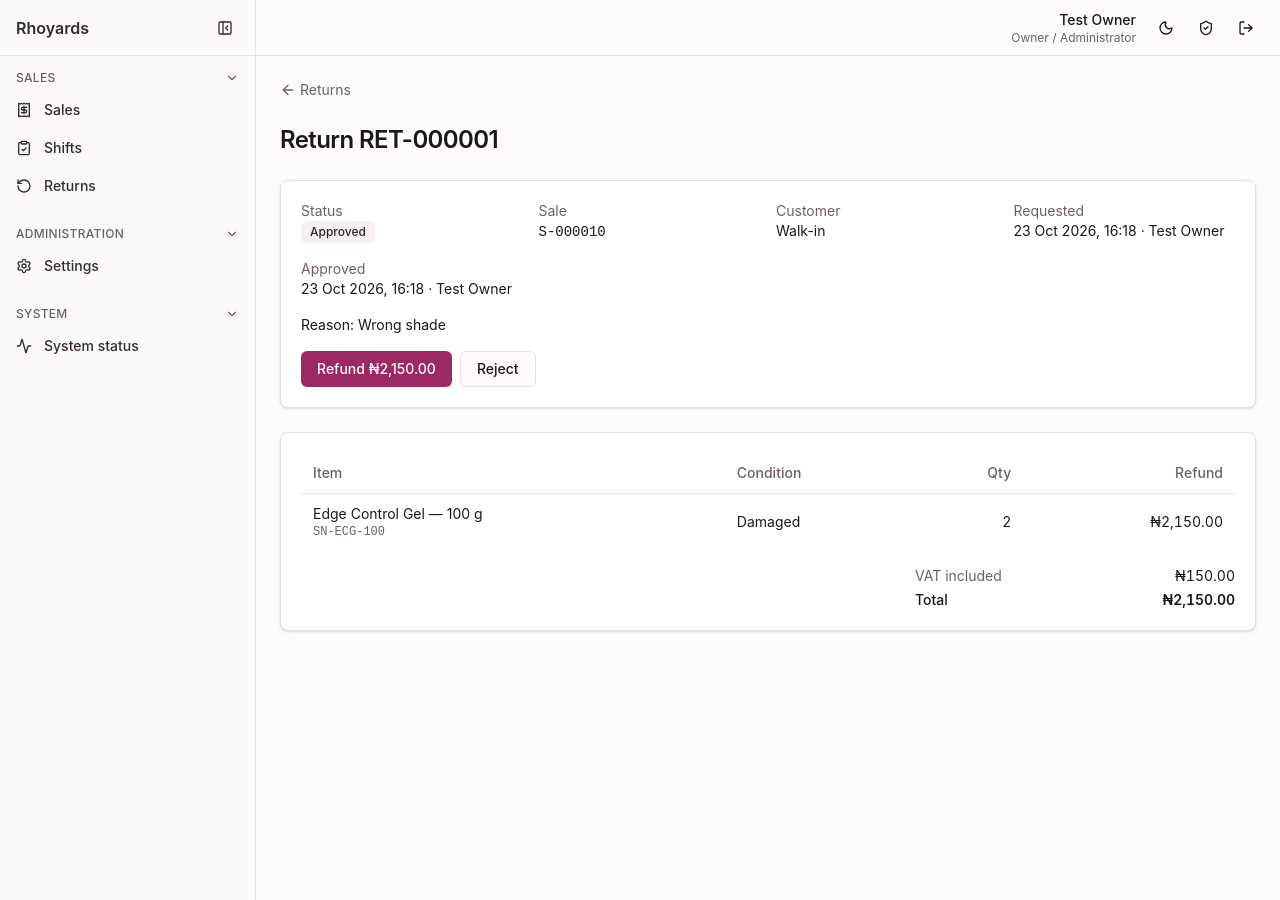
Scenario: returns › refunds an approved return once, with an idempotency key
The width and height of the screenshot is (1280, 900).
Step 1. Click the button "Refund ₦2,150.00" → {"x": 376, "y": 369}, box [301,351,452,387]
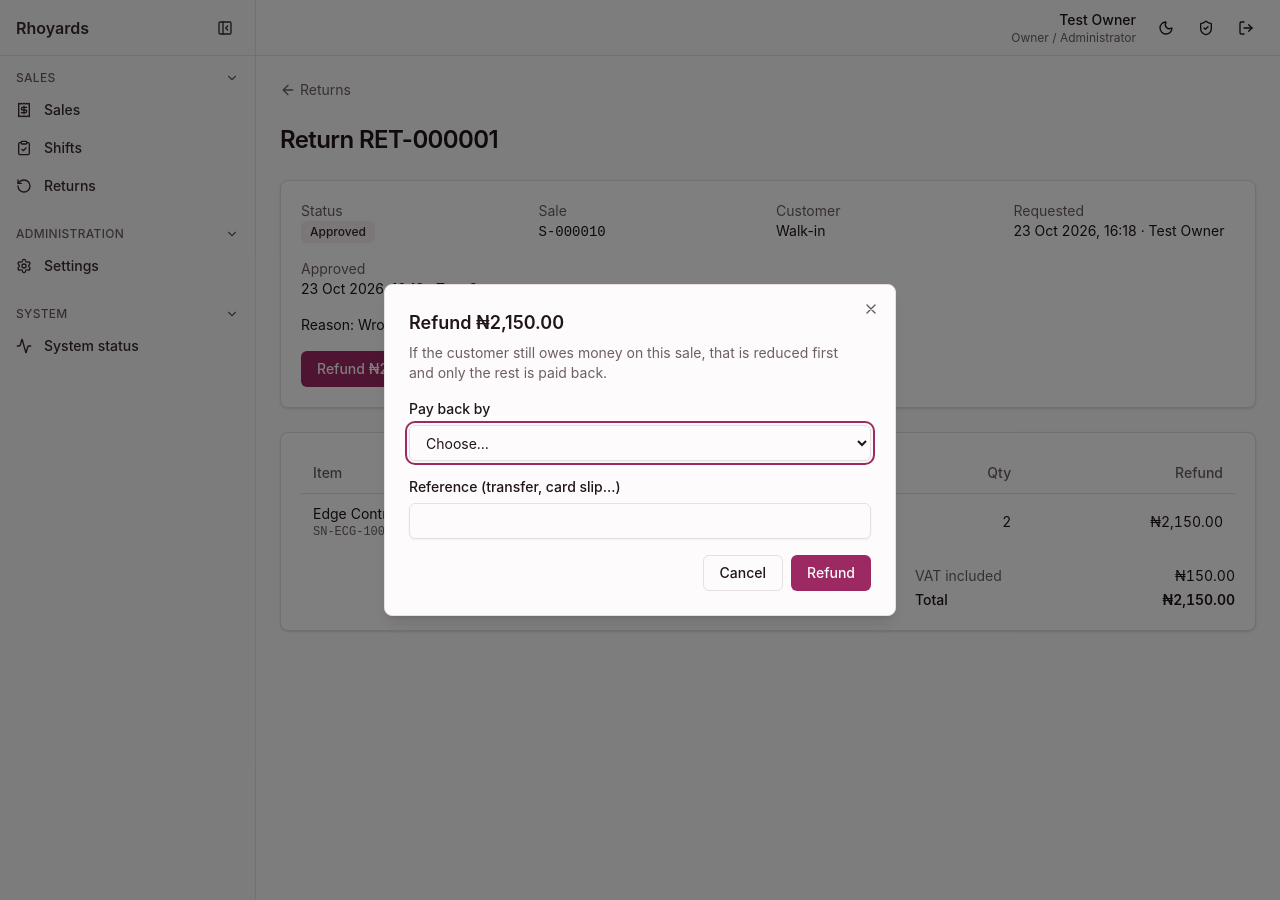
Step 2. Select "Cash" in the dropdown labelled "Pay back by" → {"x": 640, "y": 443}, box [409,425,871,461]
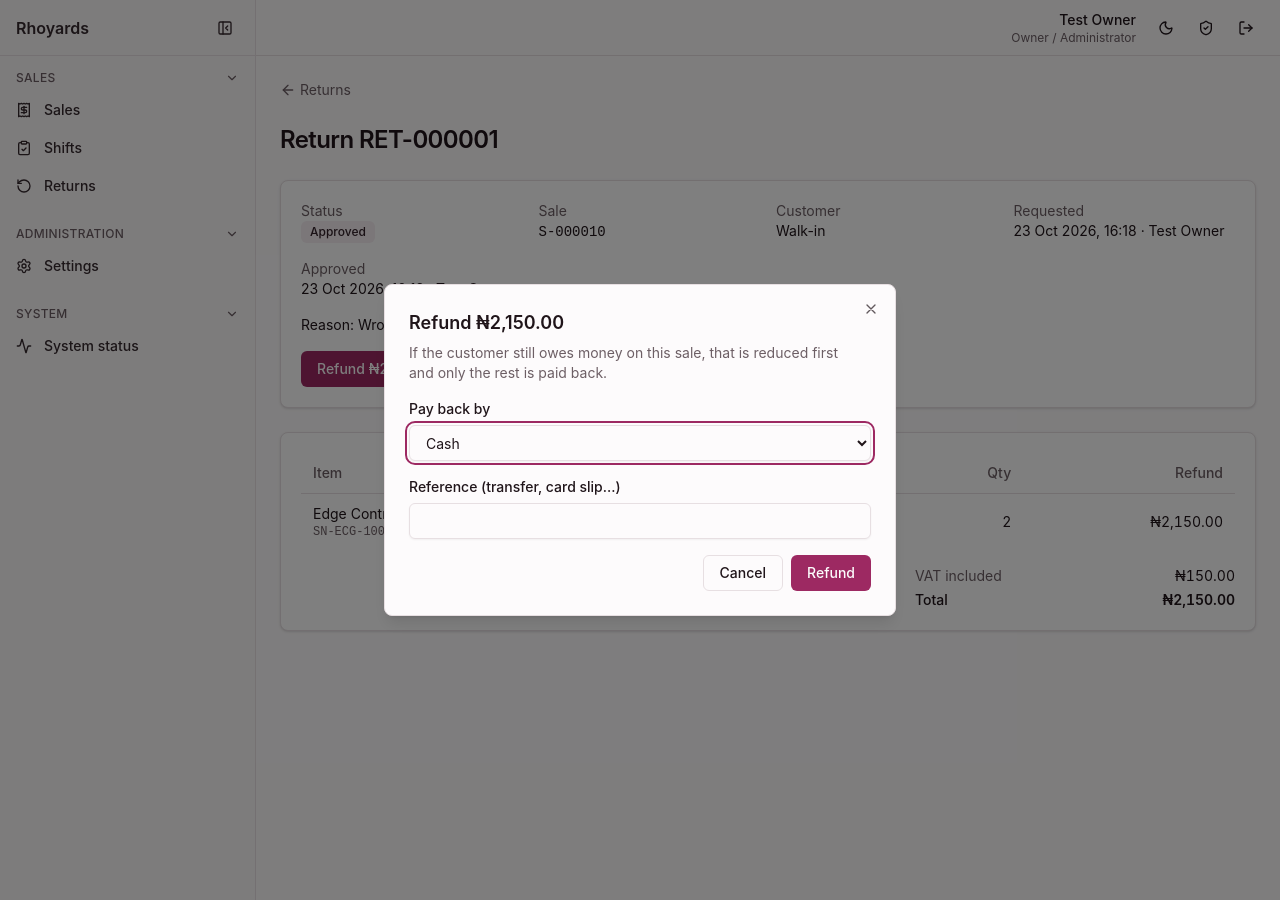
Step 3. Click the button "Refund" → {"x": 831, "y": 573}, box [791,555,871,591]
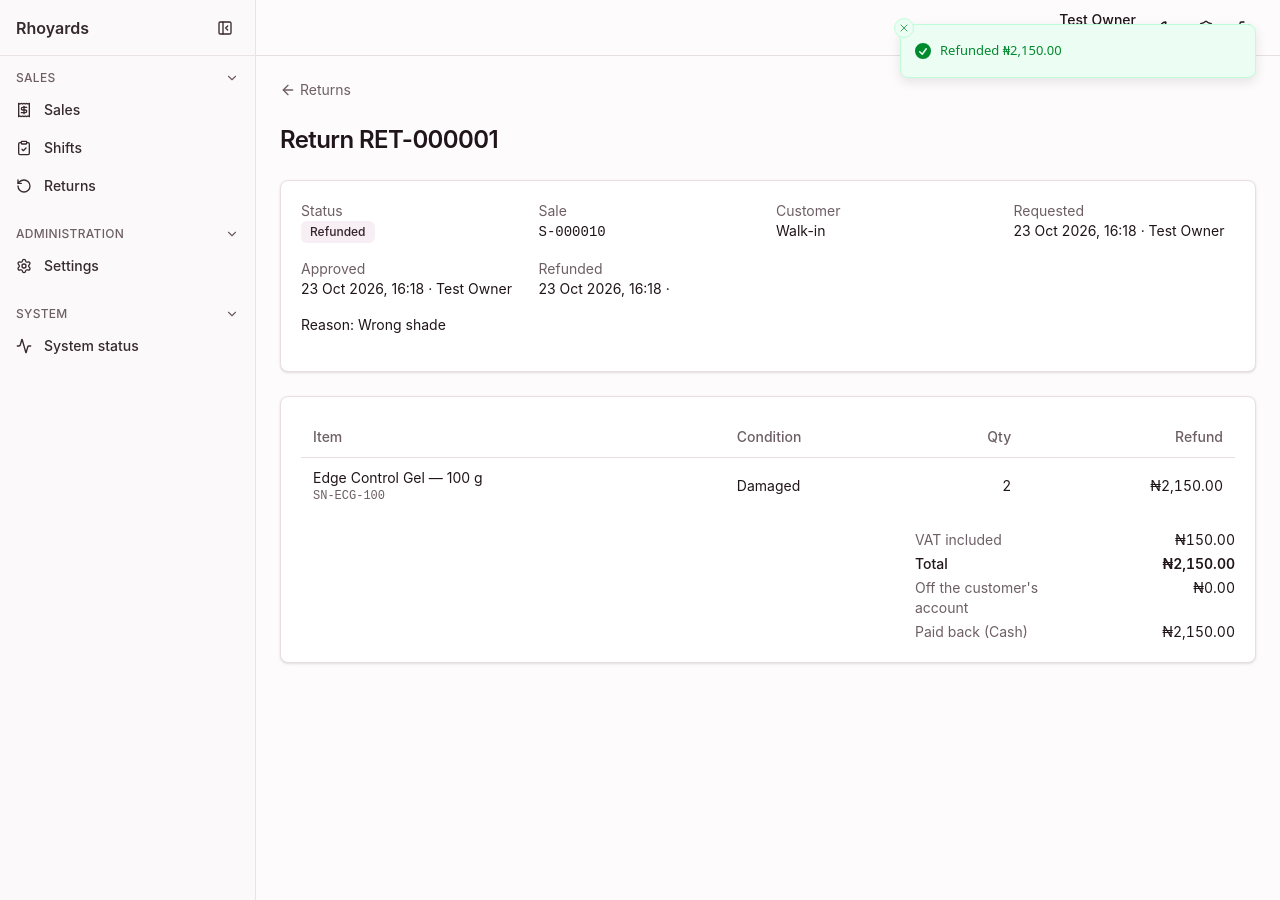
Expected: the text "Paid back (Cash)" is shown, [915,622,1028,640]
Expected: the button "Refund ₦2,150.00" is gone
